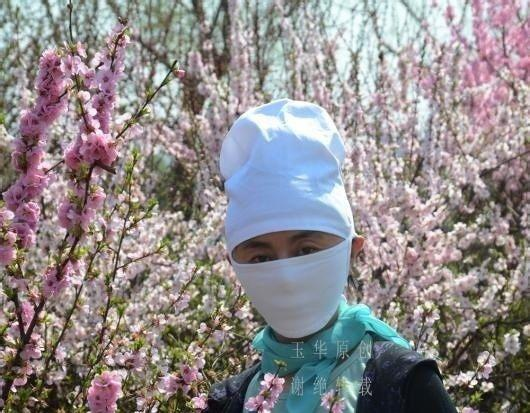OK: (235, 221, 350, 336)
